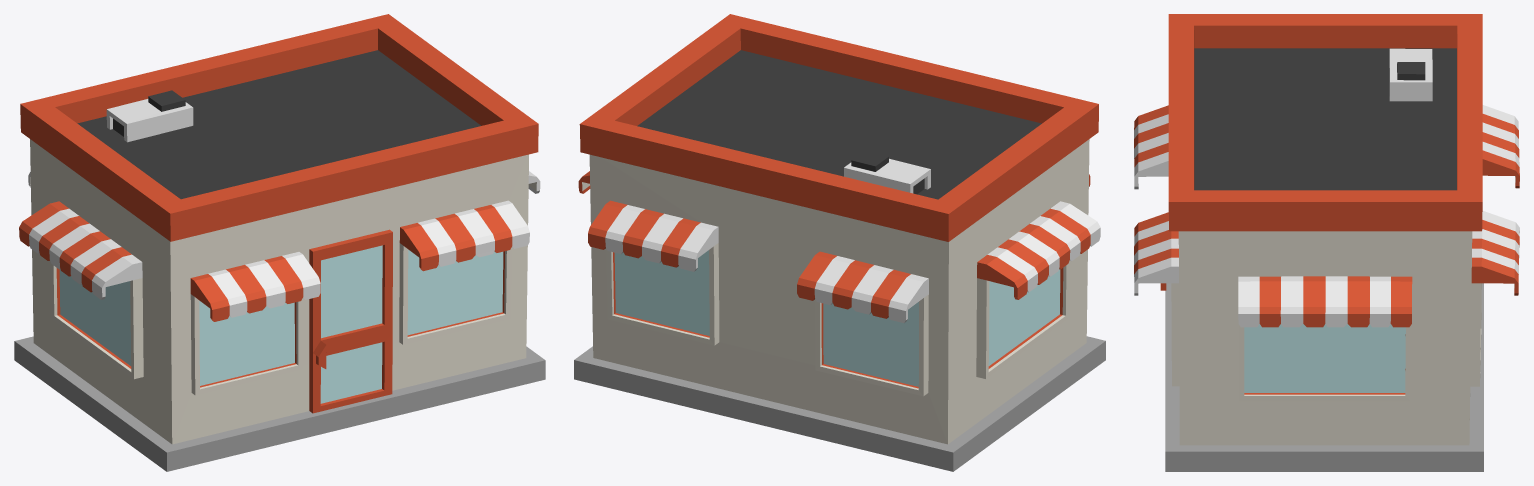
The model's file is Shop.obj.
3 renders of one model, left to right at view 1: azimuth 30°, elevation 25°; view 2: azimuth 150°, elevation 25°; view 3: azimuth 270°, elevation 25°, orthographic. The views are drawn at different scales.
Visible parts, largest first — view 1: Shop_Cube.006; view 2: Shop_Cube.006; view 3: Shop_Cube.006.
Boxes of the visible parts, x1,y1,x2,y2 form: Shop_Cube.006: [14, 14, 545, 471]; Shop_Cube.006: [574, 14, 1105, 471]; Shop_Cube.006: [1134, 14, 1519, 471].
Bounding box in the file's own units: 2.48 × 1.39 × 1.8.
Materials: 1 (1 with a texture image).
